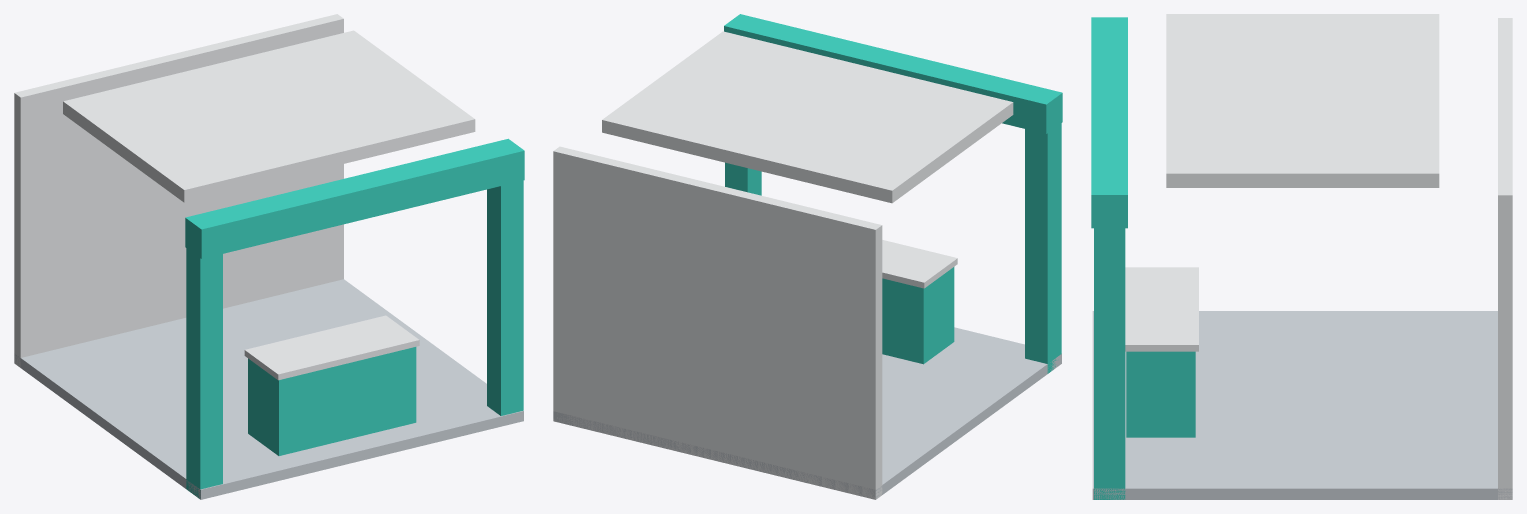
The picture shows the model from 3 angles, left to right: view 1: azimuth 30°, elevation 25°; view 2: azimuth 150°, elevation 25°; view 3: azimuth 270°, elevation 25°; orthographic projection. The views are drawn at different scales.
Parts seen in each view (by area): view 1: Exhibition Booth Concept; view 2: Exhibition Booth Concept; view 3: Exhibition Booth Concept.
Part boxes in pixels (x1,y1,x2,y2): Exhibition Booth Concept: (14,14,524,499); Exhibition Booth Concept: (553,14,1062,499); Exhibition Booth Concept: (1091,14,1512,499).
Size of the model in its own units: 4 by 3.34 by 4.02.
